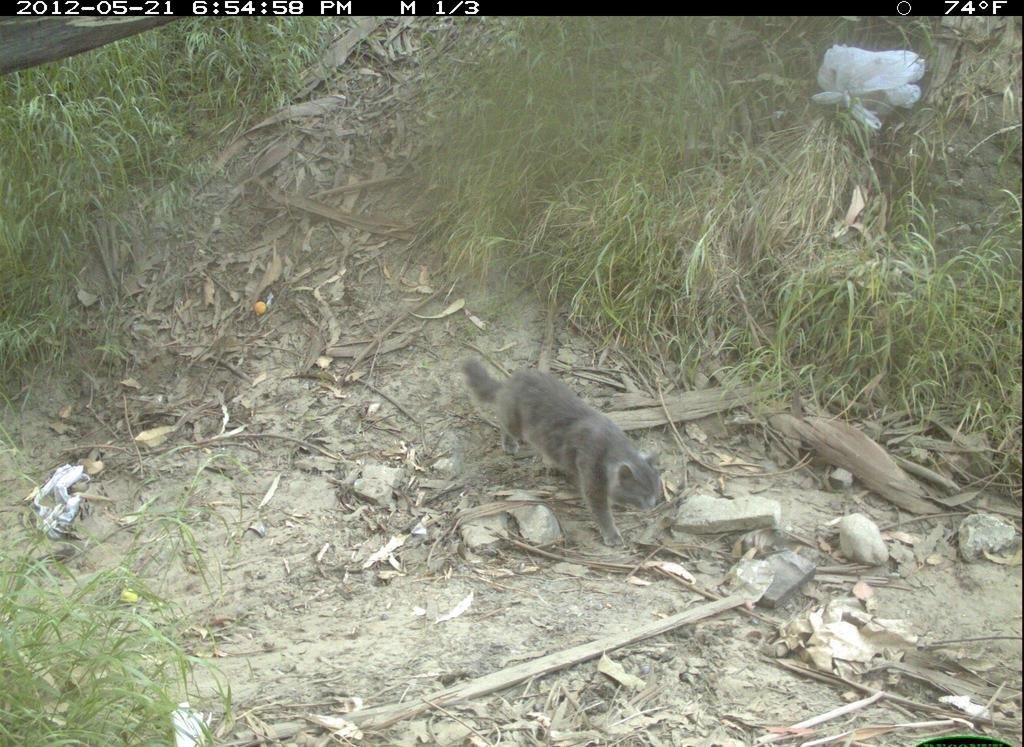cat: (458, 352, 669, 549)
